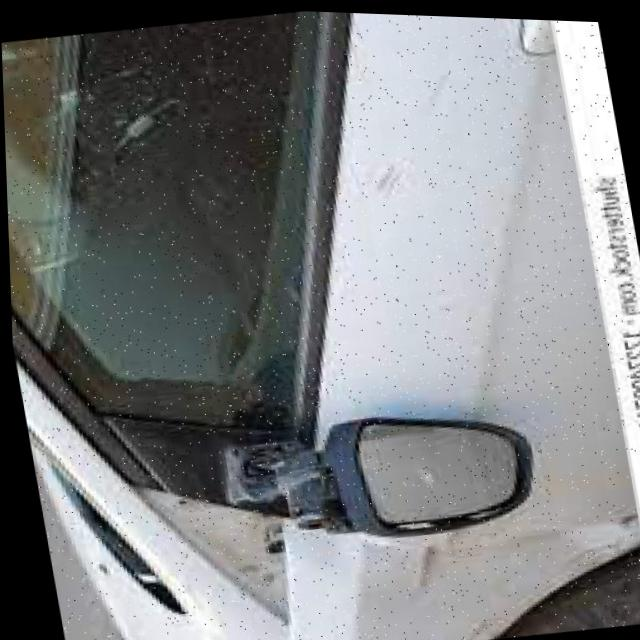Glass_Break: (189, 365, 560, 590)
